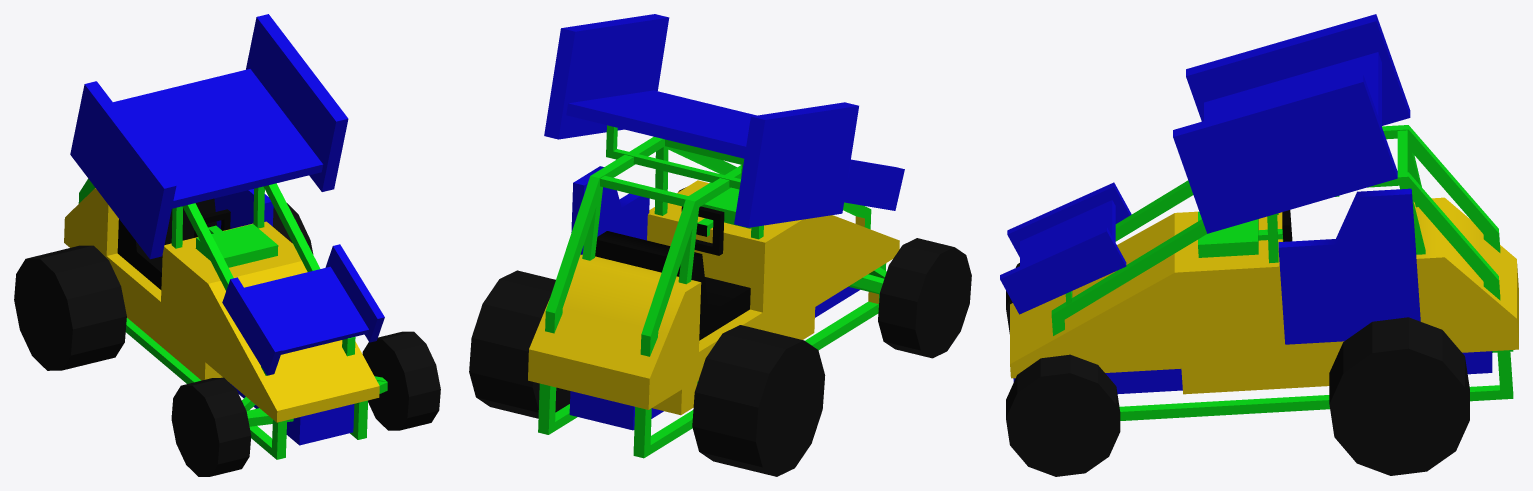
File: sprint_car.gltf
3 views of the same model, side by side, from view 1: azimuth 30°, elevation 25°; view 2: azimuth 150°, elevation 25°; view 3: azimuth 270°, elevation 25° (orthographic). The views are drawn at different scales.
Parts seen in each view (by area): view 1: SR_Veh_SprintCar_Blue, SR_Veh_StockCar_Wheel_RR, SR_Veh_StockCar_Wheel_FR, SR_Veh_StockCar_Wheel_FL, SR_Veh_StockCar_Wheel_RL; view 2: SR_Veh_SprintCar_Blue, SR_Veh_StockCar_Wheel_RR, SR_Veh_StockCar_Wheel_FR, SR_Veh_StockCar_Wheel_RL; view 3: SR_Veh_SprintCar_Blue, SR_Veh_StockCar_Wheel_RL, SR_Veh_StockCar_Wheel_FL.
Boxes of the visible parts, <box> form: SR_Veh_SprintCar_Blue: <box>64,14,387,459</box>; SR_Veh_StockCar_Wheel_RR: <box>14,245,126,370</box>; SR_Veh_StockCar_Wheel_FR: <box>171,377,251,476</box>; SR_Veh_StockCar_Wheel_FL: <box>362,331,440,430</box>; SR_Veh_StockCar_Wheel_RL: <box>273,203,313,254</box>; SR_Veh_SprintCar_Blue: <box>528,14,904,458</box>; SR_Veh_StockCar_Wheel_RR: <box>692,325,825,476</box>; SR_Veh_StockCar_Wheel_FR: <box>878,238,971,358</box>; SR_Veh_StockCar_Wheel_RL: <box>469,270,570,418</box>; SR_Veh_SprintCar_Blue: <box>1000,14,1518,420</box>; SR_Veh_StockCar_Wheel_RL: <box>1329,317,1469,475</box>; SR_Veh_StockCar_Wheel_FL: <box>1006,354,1120,476</box>.
Size of the model in its own units: 1.98 by 2.49 by 3.06.
